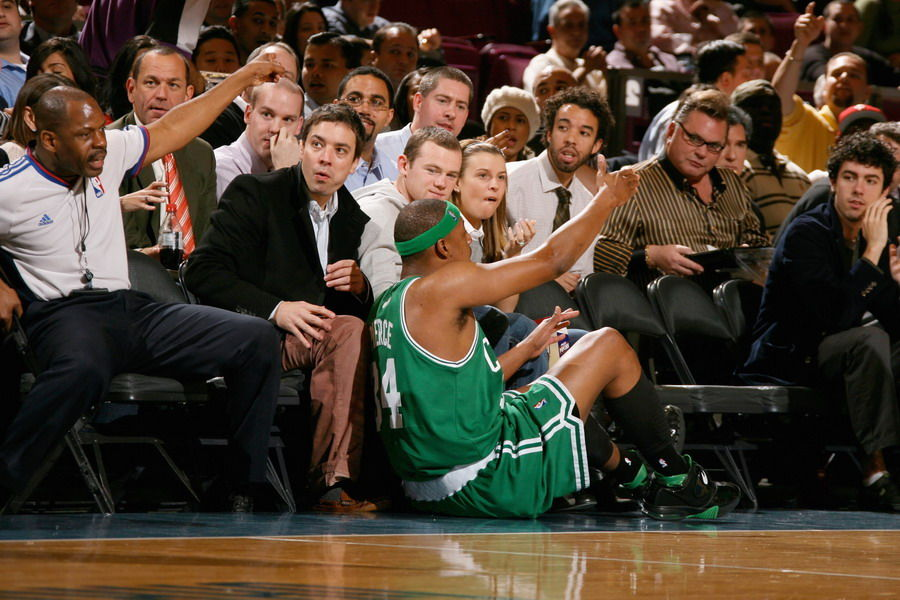10+: (6, 7, 899, 514)
down: (365, 172, 708, 519)
